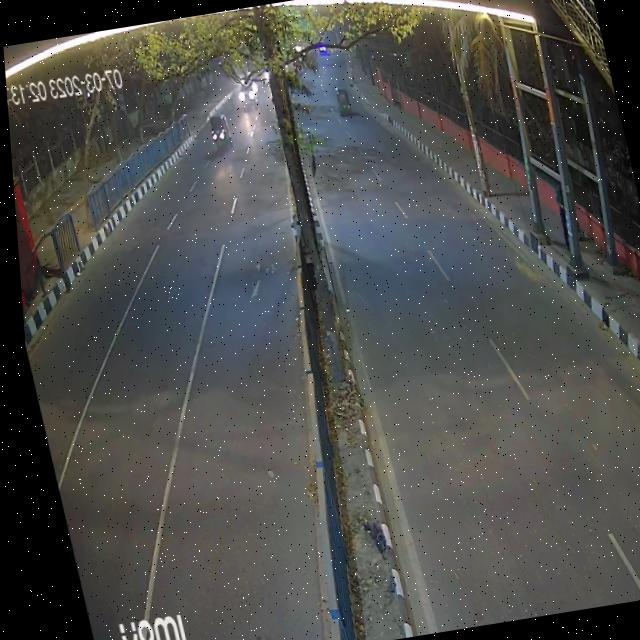cng: (199, 103, 234, 161), (330, 86, 355, 120)
